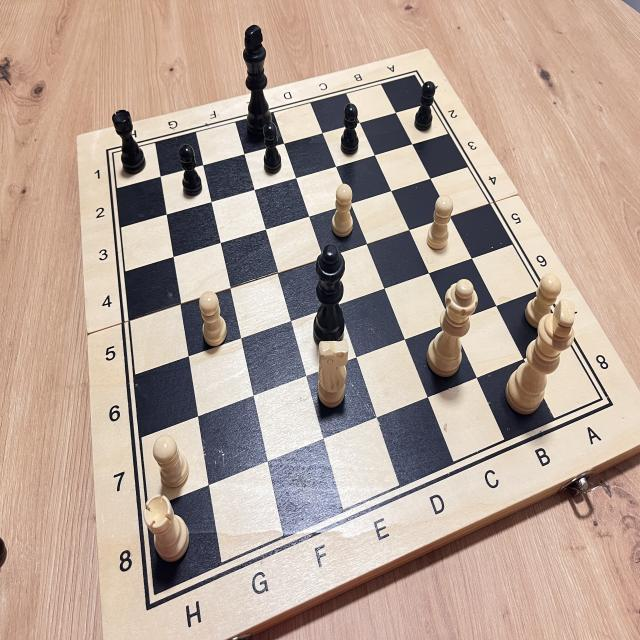black-king: (234, 18, 278, 141)
black-pawn: (175, 140, 207, 202), (334, 93, 364, 157), (409, 72, 439, 136), (256, 117, 286, 179)
black-queen: (304, 240, 356, 353)
black-rook: (108, 101, 148, 177)
white-king: (501, 292, 579, 422)
white-knight: (307, 328, 359, 424)
white-pawn: (146, 428, 197, 494), (193, 283, 234, 357), (524, 263, 564, 333), (417, 188, 456, 254), (326, 177, 356, 246)
white-queen: (421, 270, 485, 383)
white-rook: (140, 489, 193, 576)
